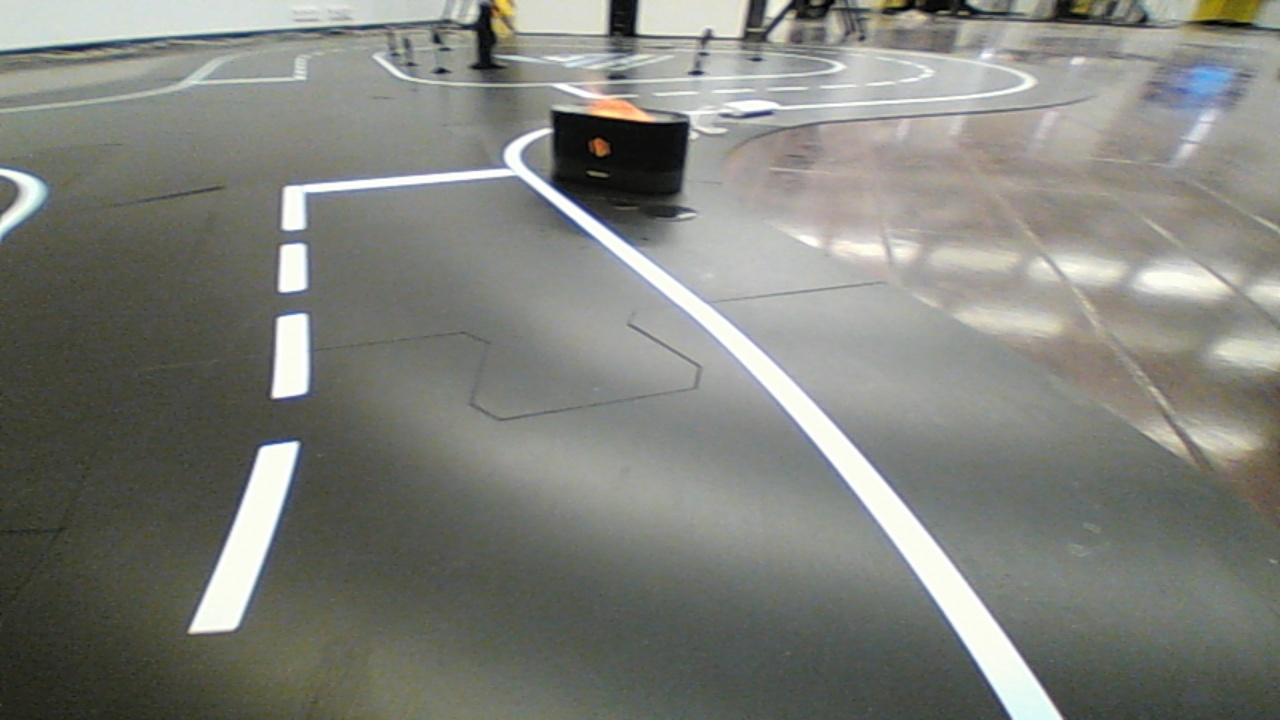Movement prohibition: (525, 95, 712, 212)
